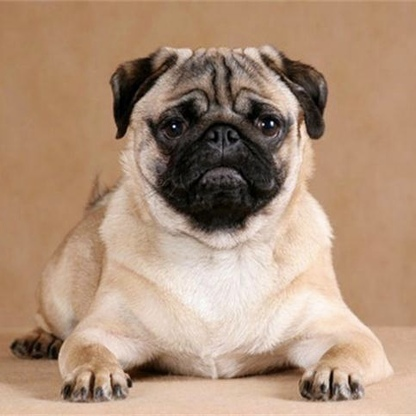Pug: (6, 37, 402, 416)
